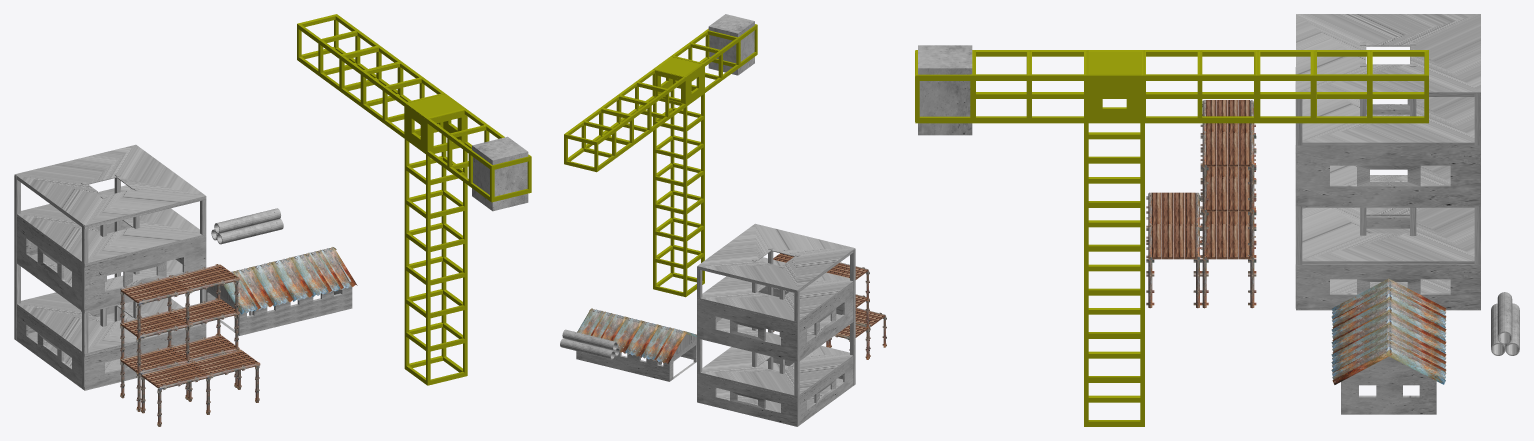
Rendered from ConstructionSite.fbx.
The picture shows the model from 3 angles, left to right: view 1: azimuth 30°, elevation 25°; view 2: azimuth 150°, elevation 25°; view 3: azimuth 270°, elevation 25°; orthographic projection. The views are drawn at different scales.
Parts seen in each view (by area): view 1: pCube89, pCube87, pCube5, nurbsToPoly12, nurbsToPoly16, nurbsToPoly15, pCylinder3, pCylinder2, nurbsToPoly11, nurbsToPoly13, nurbsToPoly10, nurbsToPoly14; view 2: pCube89, pCube87, pCube3, nurbsToPoly7, nurbsToPoly9, pCube1, nurbsToPoly3, pCylinder3, pCylinder1, nurbsToPoly8, nurbsToPoly4, nurbsToPoly6; view 3: pCube89, pCube87, pCube2, nurbsToPoly13, nurbsToPoly6, pCube13, pCylinder3, nurbsToPoly7, nurbsToPoly11, nurbsToPoly12, nurbsToPoly8, nurbsToPoly3 (+4 smaller).
Part boxes in pixels (box(x1,y1,x2,y2)): pCube89: box(14, 144, 206, 390); pCube87: box(297, 14, 531, 385); pCube5: box(239, 281, 352, 335); nurbsToPoly12: box(252, 262, 293, 306); nurbsToPoly16: box(272, 257, 313, 301); nurbsToPoly15: box(291, 252, 333, 296); pCylinder3: box(214, 208, 280, 233); pCylinder2: box(217, 219, 283, 244); nurbsToPoly11: box(233, 267, 273, 311); nurbsToPoly13: box(316, 247, 357, 291); nurbsToPoly10: box(223, 270, 260, 314); nurbsToPoly14: box(304, 249, 345, 294); pCube89: box(697, 223, 855, 426); pCube87: box(564, 14, 757, 297); pCube3: box(576, 346, 669, 381); nurbsToPoly7: box(625, 321, 658, 357); nurbsToPoly9: box(651, 327, 686, 363); pCube1: box(669, 334, 696, 381); nurbsToPoly3: box(613, 317, 642, 353); pCylinder3: box(562, 329, 617, 350); pCylinder1: box(560, 338, 614, 359); nurbsToPoly8: box(641, 325, 673, 361); nurbsToPoly4: box(597, 313, 626, 340); nurbsToPoly6: box(577, 308, 605, 335); pCube89: box(1295, 14, 1480, 310); pCube87: box(915, 45, 1428, 426); pCube2: box(1341, 378, 1436, 414); nurbsToPoly13: box(1331, 339, 1392, 384); nurbsToPoly6: box(1386, 340, 1446, 384); pCube13: box(1348, 357, 1430, 378); pCylinder3: box(1497, 292, 1512, 344); nurbsToPoly7: box(1386, 299, 1446, 340); nurbsToPoly11: box(1331, 286, 1391, 328); nurbsToPoly12: box(1331, 299, 1391, 341); nurbsToPoly8: box(1386, 287, 1446, 328); nurbsToPoly3: box(1386, 312, 1446, 353).
Size of the model in its own units: 208 by 178 by 273.
Materials: 5 (4 with a texture image).
